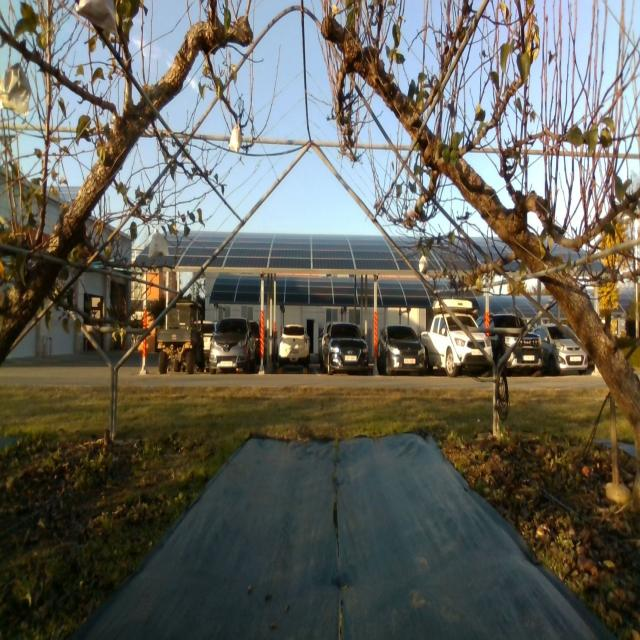pearbags: (0, 64, 31, 116), (75, 0, 118, 35), (148, 232, 169, 257), (230, 125, 242, 152)
